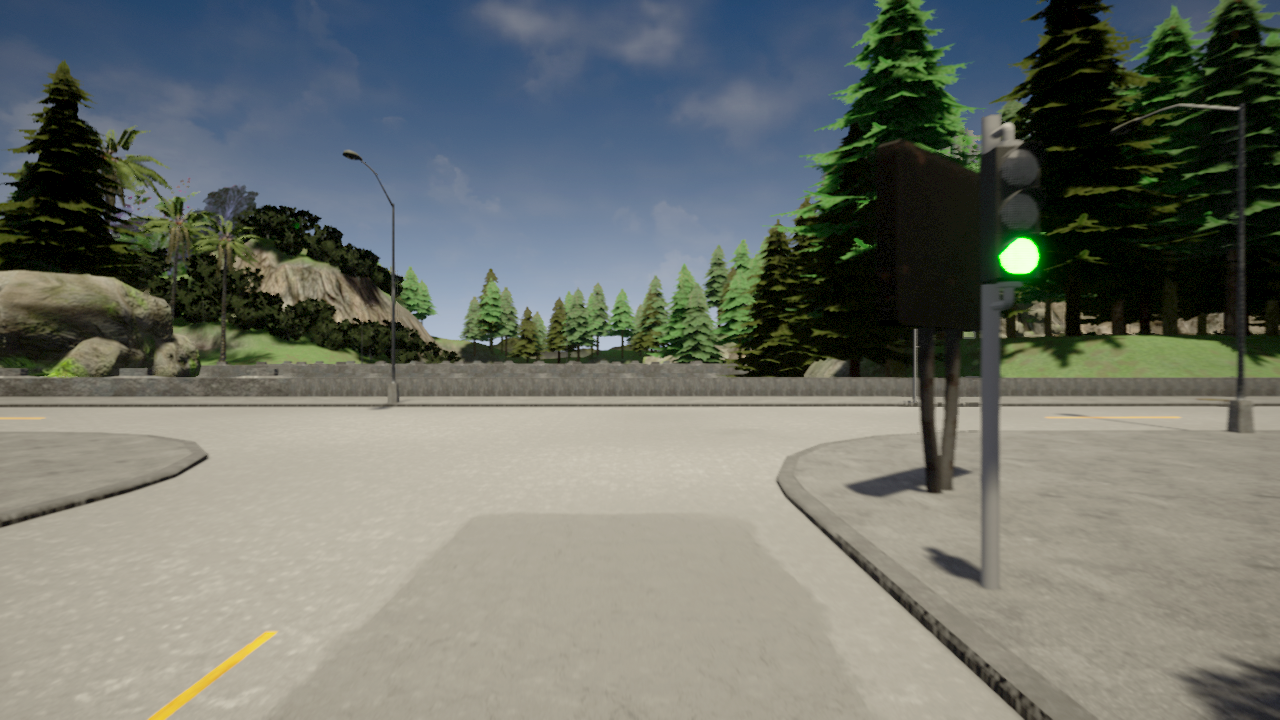green: (978, 141, 1052, 287)
